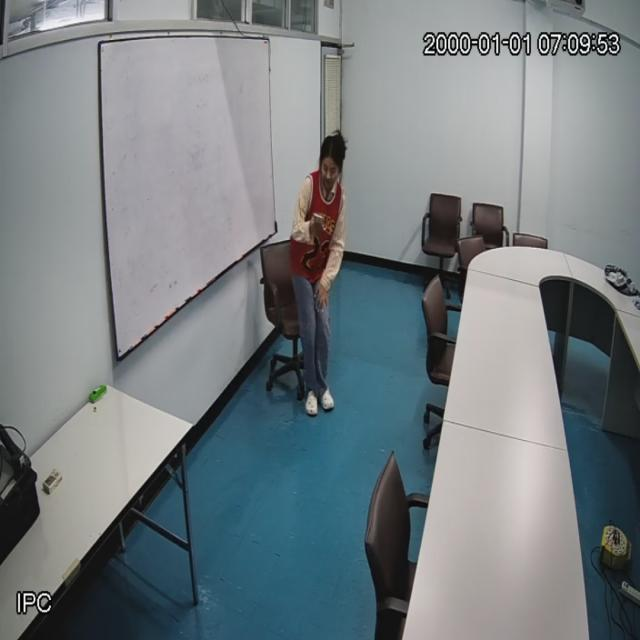normal: (290, 136, 350, 412)
